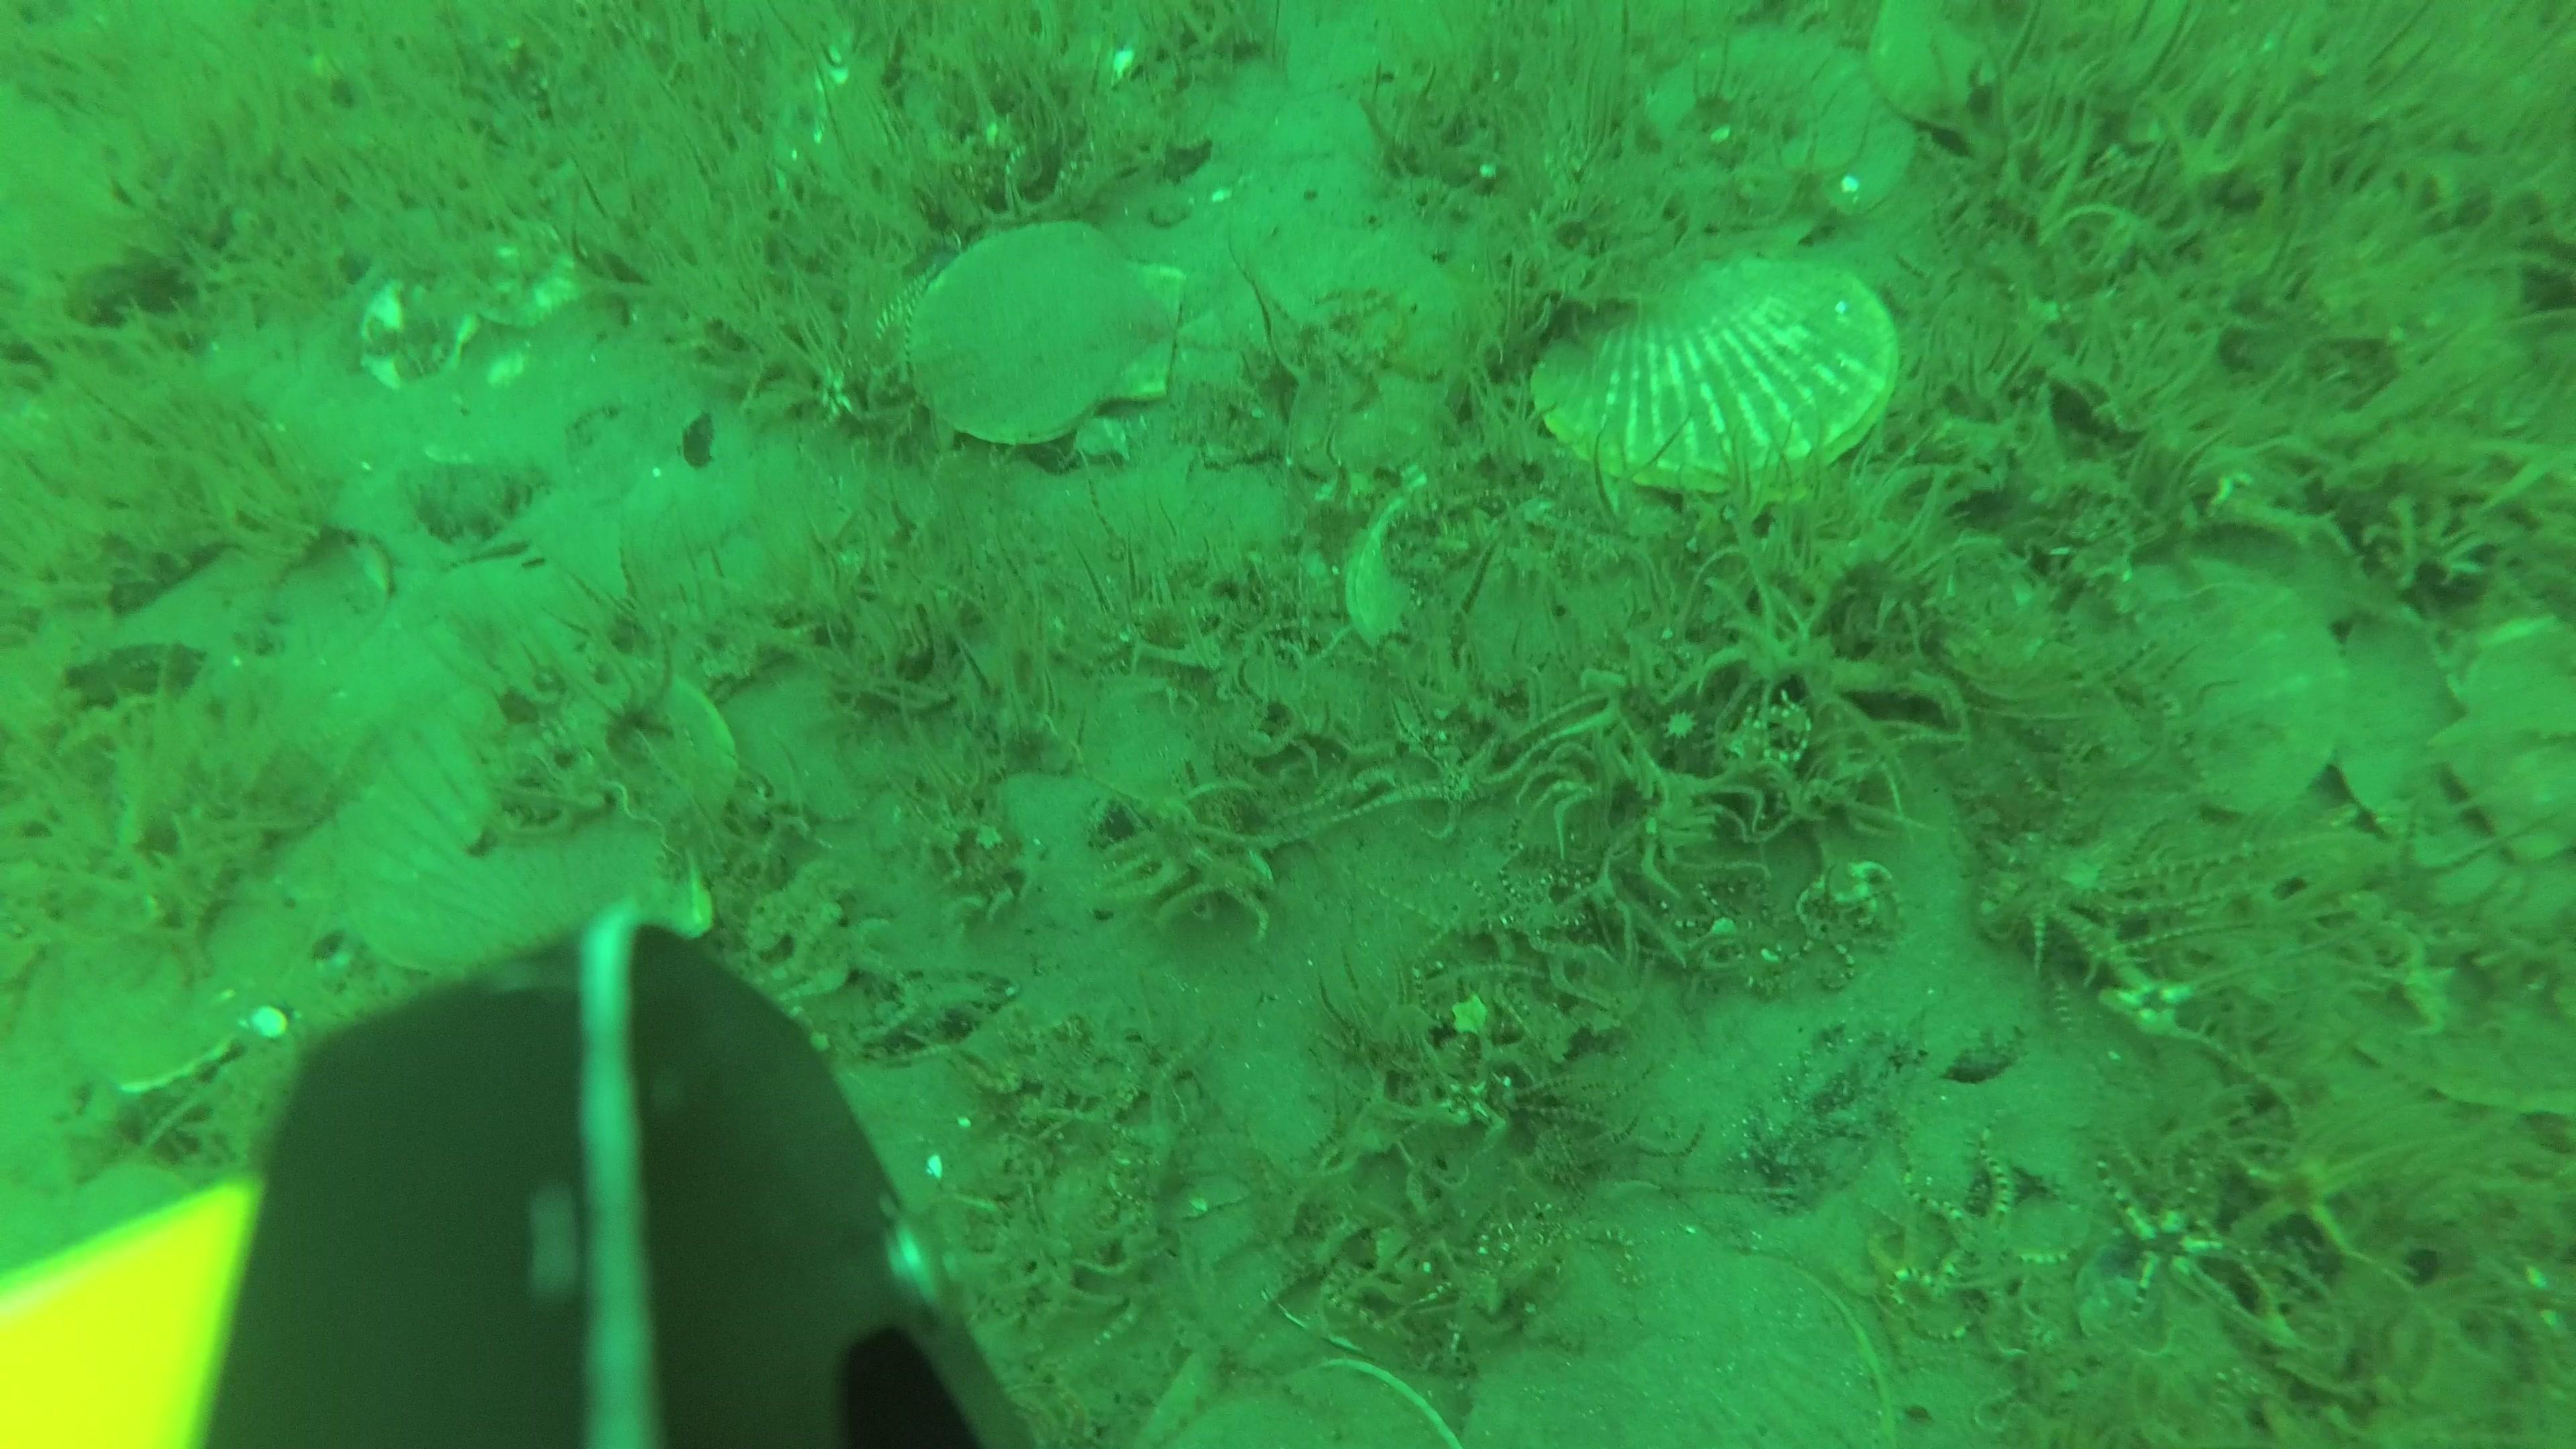scallop: (333, 681, 752, 984), (1532, 260, 1902, 492), (2081, 547, 2348, 807), (908, 219, 1196, 448), (1874, 0, 2213, 120)
